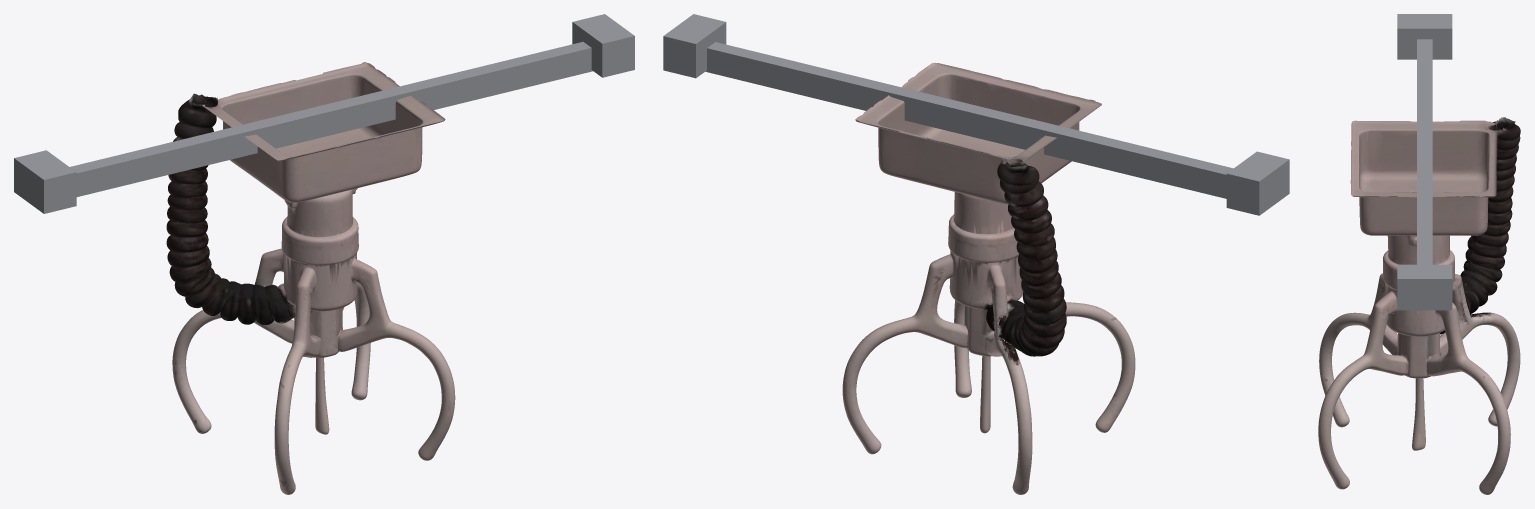
Rendered from claw.min.glb.
3 views of the same model, side by side, from view 1: azimuth 30°, elevation 25°; view 2: azimuth 150°, elevation 25°; view 3: azimuth 270°, elevation 25° (orthographic). The views are drawn at different scales.
Visible parts, largest first — view 1: tripo_part_22, GantryBar, tripo_part_16, tripo_part_9, tripo_part_37, tripo_part_15, tripo_part_36, GantryEndL, GantryEndR, tripo_part_35; view 2: GantryBar, tripo_part_22, tripo_part_9, tripo_part_16, tripo_part_35, tripo_part_36, GantryEndL, GantryEndR, tripo_part_15, tripo_part_37; view 3: tripo_part_22, tripo_part_16, tripo_part_9, tripo_part_37, GantryBar, tripo_part_35, GantryEndR, tripo_part_36, GantryEndL, tripo_part_15.
Part boxes in pixels (left/top/right/bottom): tripo_part_22: left=202, top=62, right=445, bottom=202; GantryBar: left=70, top=42, right=592, bottom=196; tripo_part_16: left=270, top=188, right=358, bottom=434; tripo_part_9: left=166, top=93, right=290, bottom=324; tripo_part_37: left=338, top=259, right=455, bottom=460; tripo_part_15: left=274, top=271, right=320, bottom=494; tripo_part_36: left=172, top=248, right=293, bottom=433; GantryEndL: left=14, top=150, right=76, bottom=213; GantryEndR: left=572, top=14, right=634, bottom=77; tripo_part_35: left=342, top=282, right=370, bottom=400; GantryBar: left=705, top=42, right=1233, bottom=198; tripo_part_22: left=855, top=62, right=1101, bottom=204; tripo_part_9: left=989, top=158, right=1066, bottom=356; tripo_part_16: left=948, top=192, right=1023, bottom=433; tripo_part_35: left=842, top=255, right=967, bottom=454; tripo_part_36: left=986, top=268, right=1032, bottom=494; GantryEndL: left=1226, top=151, right=1289, bottom=215; GantryEndR: left=663, top=14, right=726, bottom=78; tripo_part_15: left=1065, top=302, right=1135, bottom=432; tripo_part_37: left=954, top=300, right=971, bottom=397; tripo_part_22: left=1350, top=120, right=1497, bottom=235; tripo_part_16: left=1383, top=192, right=1454, bottom=450; tripo_part_9: left=1443, top=117, right=1520, bottom=333; tripo_part_37: left=1318, top=292, right=1407, bottom=489; GantryBar: left=1417, top=39, right=1432, bottom=264; tripo_part_35: left=1426, top=302, right=1510, bottom=494; GantryEndR: left=1397, top=264, right=1452, bottom=310; tripo_part_36: left=1440, top=274, right=1520, bottom=426; GantryEndL: left=1397, top=14, right=1452, bottom=59; tripo_part_15: left=1319, top=273, right=1397, bottom=427.
Bounding box in the file's own units: 0.364 × 0.2028 × 0.1174.
Materials: 9 (7 with a texture image).
